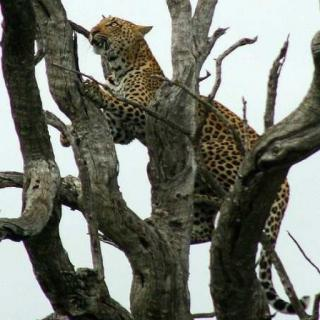Leopard: (74, 4, 306, 240)
